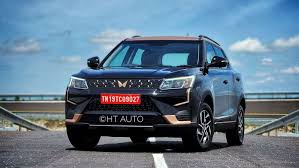XUV 400: (64, 33, 246, 150)
